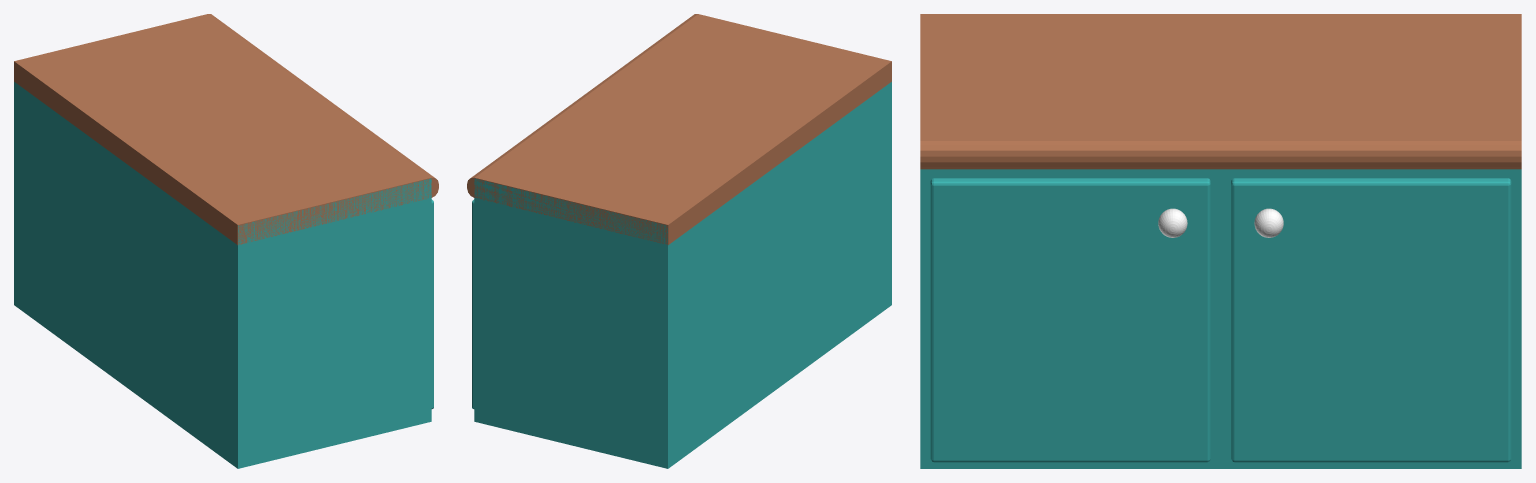
The model's file is EncimeraDoble.fbx.
3 renders of one model, left to right at view 1: azimuth 30°, elevation 25°; view 2: azimuth 150°, elevation 25°; view 3: azimuth 270°, elevation 25°, orthographic. The views are drawn at different scales.
Parts seen in each view (by area): view 1: Cube, Cube.001, Cube.002; view 2: Cube, Cube.001, Cube.003; view 3: Cube.001, Cube.002, Cube.003, Cube, Sphere, Sphere.001.
Boxes of the visible parts, <box> form: Cube: <box>14,82,431,468</box>; Cube.001: <box>14,14,438,244</box>; Cube.002: <box>431,199,433,408</box>; Cube: <box>474,82,891,468</box>; Cube.001: <box>467,14,891,244</box>; Cube.003: <box>472,199,474,408</box>; Cube.001: <box>920,14,1521,169</box>; Cube.002: <box>930,178,1210,462</box>; Cube.003: <box>1231,178,1511,462</box>; Cube: <box>920,169,1521,468</box>; Sphere: <box>1158,208,1187,237</box>; Sphere.001: <box>1254,208,1283,237</box>.
Bounding box in the file's own units: 100 × 55.92 × 60.16.
Materials: 1 (1 with a texture image).
